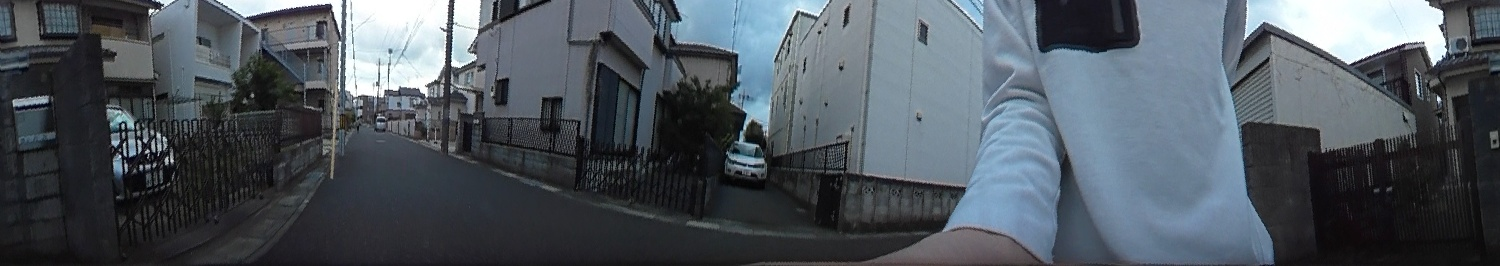difficult_person: (354, 114, 361, 135)
